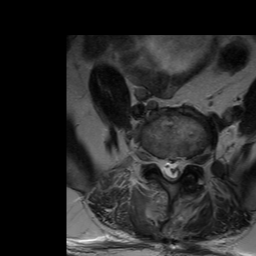CCS_normal: (167, 152, 175, 188)
LFS_stenosis: (184, 149, 192, 173)
LLS_normal: (175, 152, 184, 185)
RFS_normal: (151, 147, 159, 172)
RLS_normal: (159, 149, 167, 185)
